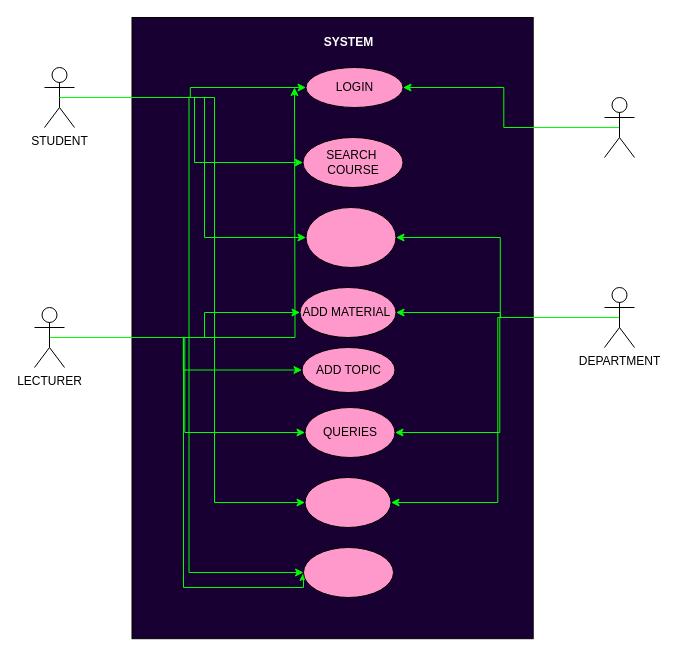
This 678x657 diagram has some shape labels left out. The shapes that lost their labels are listed below. From the top down, each one's centre as x and y in pixels, then its label:
(619,127): DEVELOPER
(350,237): ADD COURSE
(347,502): ENROLL
(348,572): LOG OUT
